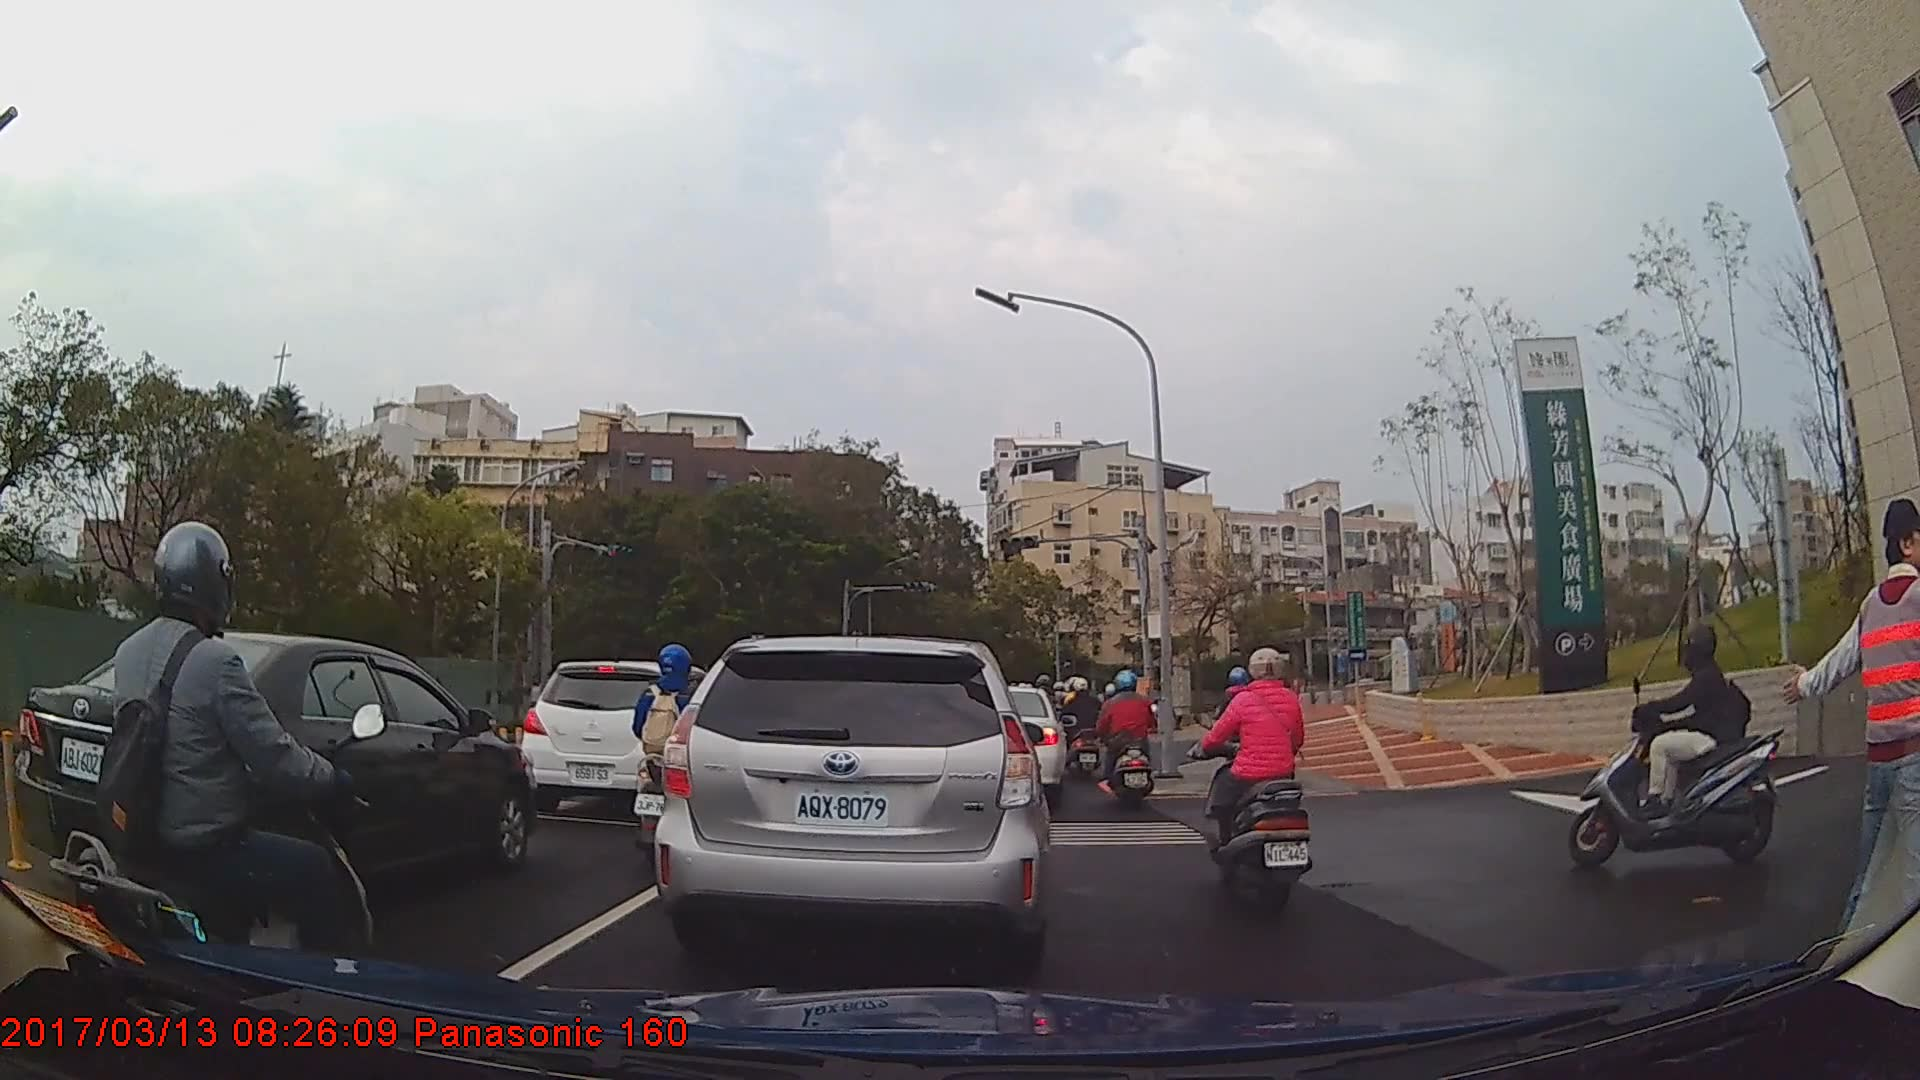pedestrian: (1792, 495, 1920, 979)
rider: (38, 526, 384, 1054), (1567, 633, 1785, 867), (1195, 646, 1311, 917), (632, 639, 719, 868), (1096, 667, 1162, 819), (1066, 674, 1107, 782)
vehicle: (13, 628, 534, 924), (648, 634, 1054, 954), (518, 659, 730, 819), (960, 684, 1067, 800)
